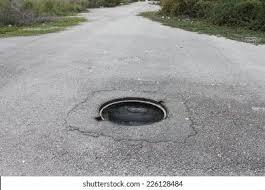closed manhole-not overflowing-: (94, 90, 170, 127)
